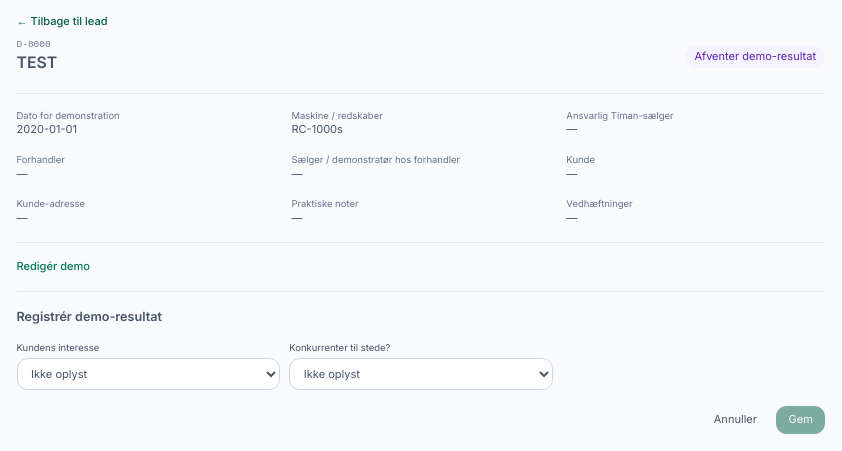
Test case: progressive demo result disclosure › saves only demo-specific result fields and completes automatically
Select "4/5" in the dropdown labelled "Kundens interesse" at (148, 374), box x1=16 y1=358 x2=280 y2=390
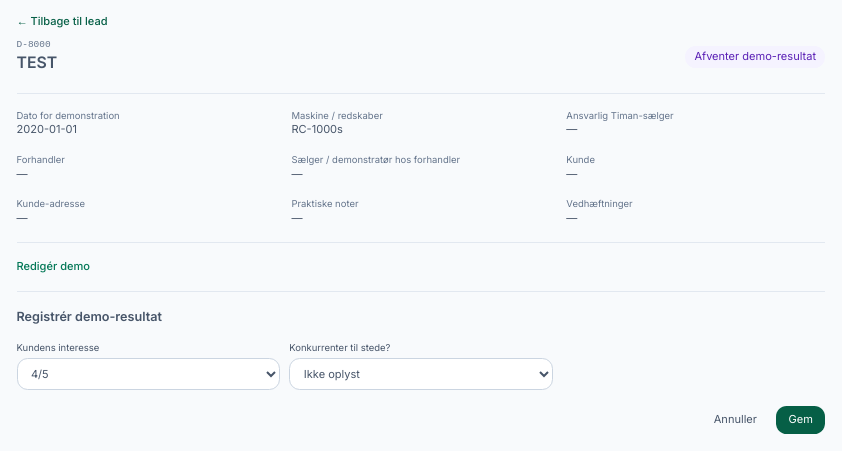
Select "Ja" in the dropdown labelled "Konkurrenter til stede?" at (421, 374), box x1=289 y1=358 x2=553 y2=390
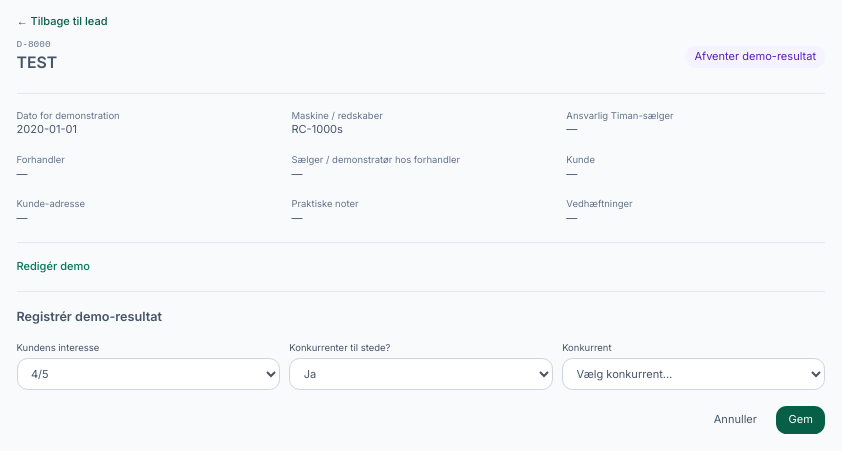
Click the button "Gem" at (801, 420), box x1=776 y1=406 x2=826 y2=434
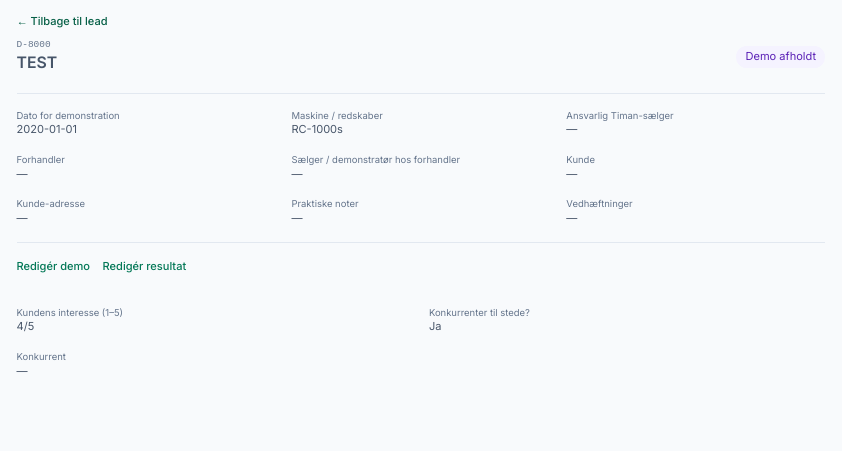
Check: the button "Redigér resultat" is shown, box x1=103 y1=259 x2=186 y2=275
Check: the text "4/5" is shown, box x1=16 y1=319 x2=34 y2=333
Check: the text "Ja" is shown, box x1=429 y1=319 x2=441 y2=333
